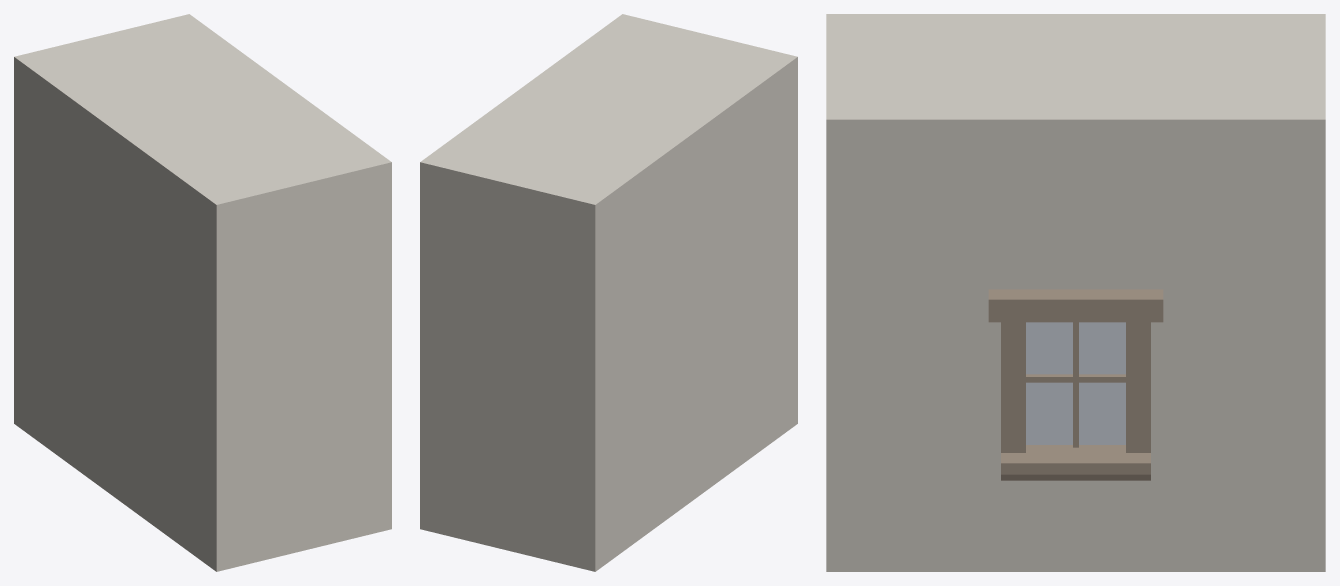
File: Stucco_Window_Single_Wide_Tall.glb
3 renders of one model, left to right at view 1: azimuth 30°, elevation 25°; view 2: azimuth 150°, elevation 25°; view 3: azimuth 270°, elevation 25°, orthographic. The views are drawn at different scales.
Visible parts, largest first — view 1: object1; view 2: object1; view 3: object1, object3, object2.
Boxes of the visible parts, x1,y1,x2,y2 form: object1: (14,14,391,571); object1: (420,14,797,571); object1: (826,14,1325,571); object3: (988,289,1163,480); object2: (1026,322,1125,447).
Bounding box in the file's own units: 1.15 × 2 × 2.
